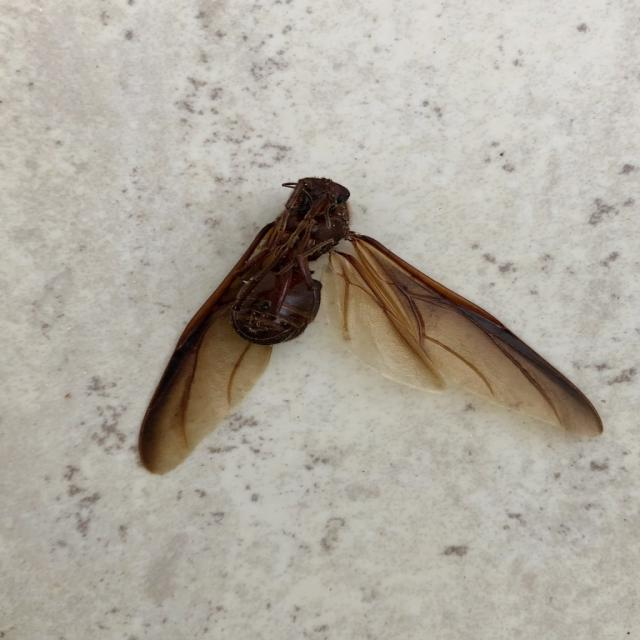Dead-Male-Alate: (138, 176, 605, 476)
